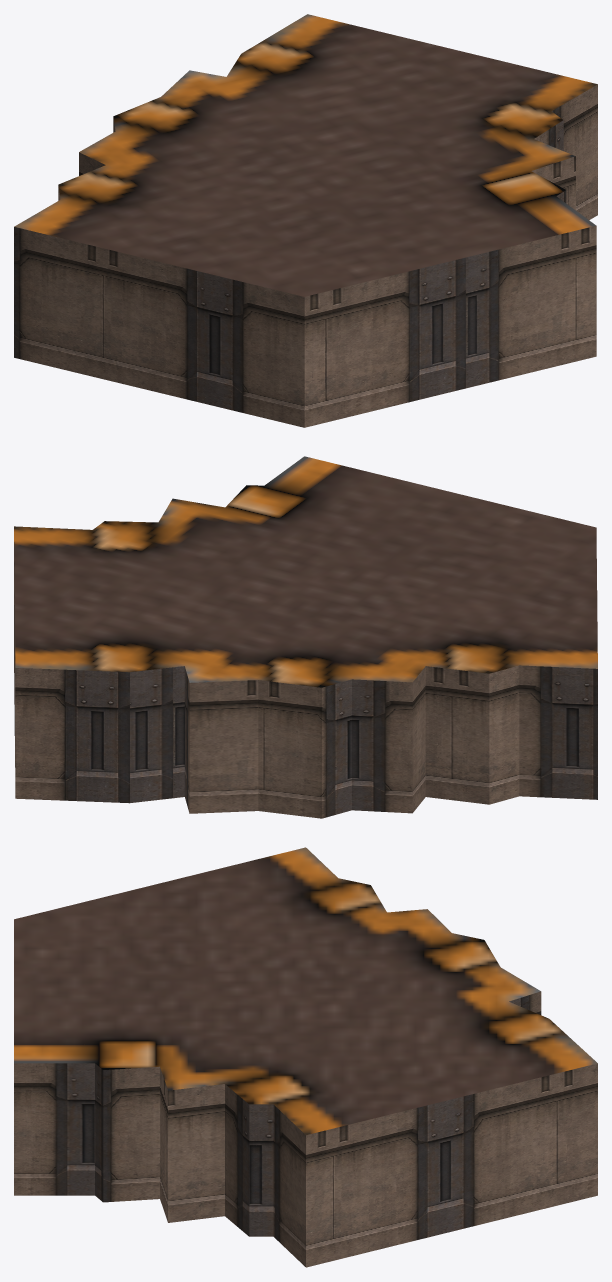
Rendered from heavy_roof26.glb.
The picture shows the model from 3 angles, top to bottom: view 1: azimuth 30°, elevation 25°; view 2: azimuth 150°, elevation 25°; view 3: azimuth 270°, elevation 25°; orthographic projection.
Parts seen in each view (by area): view 1: buildings/saxarba/heavy/heavy_roof26; view 2: buildings/saxarba/heavy/heavy_roof26; view 3: buildings/saxarba/heavy/heavy_roof26.
Boxes of the visible parts, x1,y1,x2,y2 form: buildings/saxarba/heavy/heavy_roof26: [14, 14, 597, 427]; buildings/saxarba/heavy/heavy_roof26: [14, 456, 597, 818]; buildings/saxarba/heavy/heavy_roof26: [14, 847, 597, 1267].
Bounding box in the file's own units: 84 × 18 × 72.
